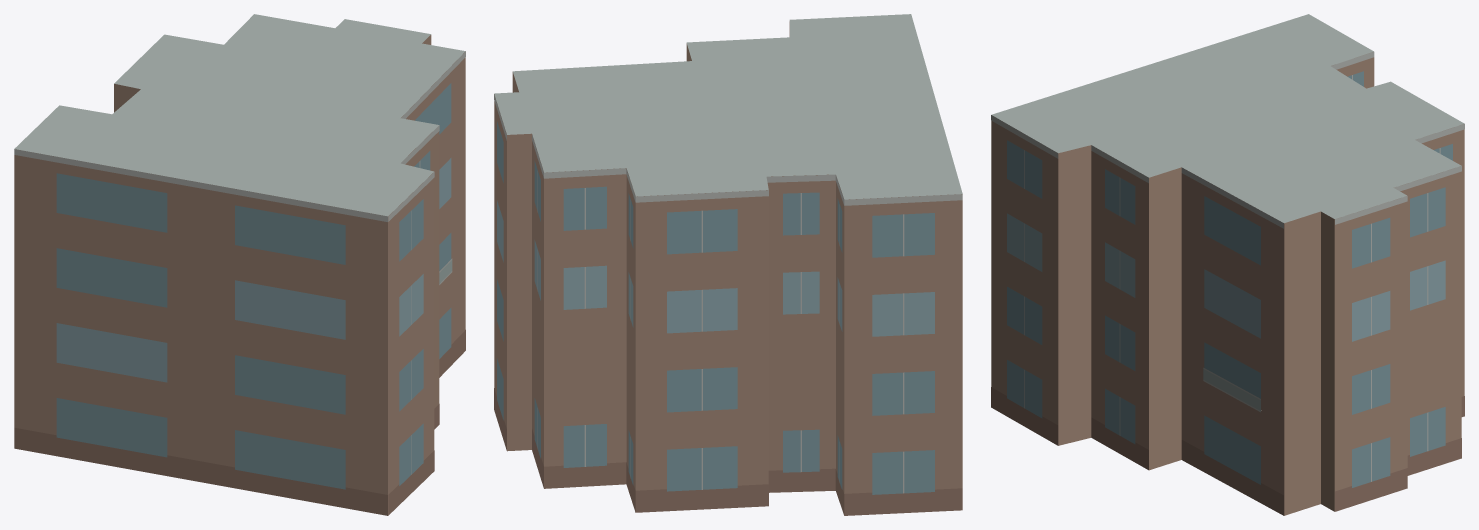
Rendered from survey-upis-32716442.glb.
3 views of the same model, side by side, from view 1: azimuth 30°, elevation 25°; view 2: azimuth 150°, elevation 25°; view 3: azimuth 270°, elevation 25° (orthographic). The views are drawn at different scales.
Visible parts, largest first — view 1: survey-upis-32716442.tmp; view 2: survey-upis-32716442.tmp; view 3: survey-upis-32716442.tmp.
Boxes of the visible parts, bbox=[...] form: survey-upis-32716442.tmp: bbox=[14, 14, 465, 515]; survey-upis-32716442.tmp: bbox=[494, 14, 962, 515]; survey-upis-32716442.tmp: bbox=[991, 14, 1464, 515].
Bounding box in the file's own units: 19.18 × 12.5 × 18.34.
